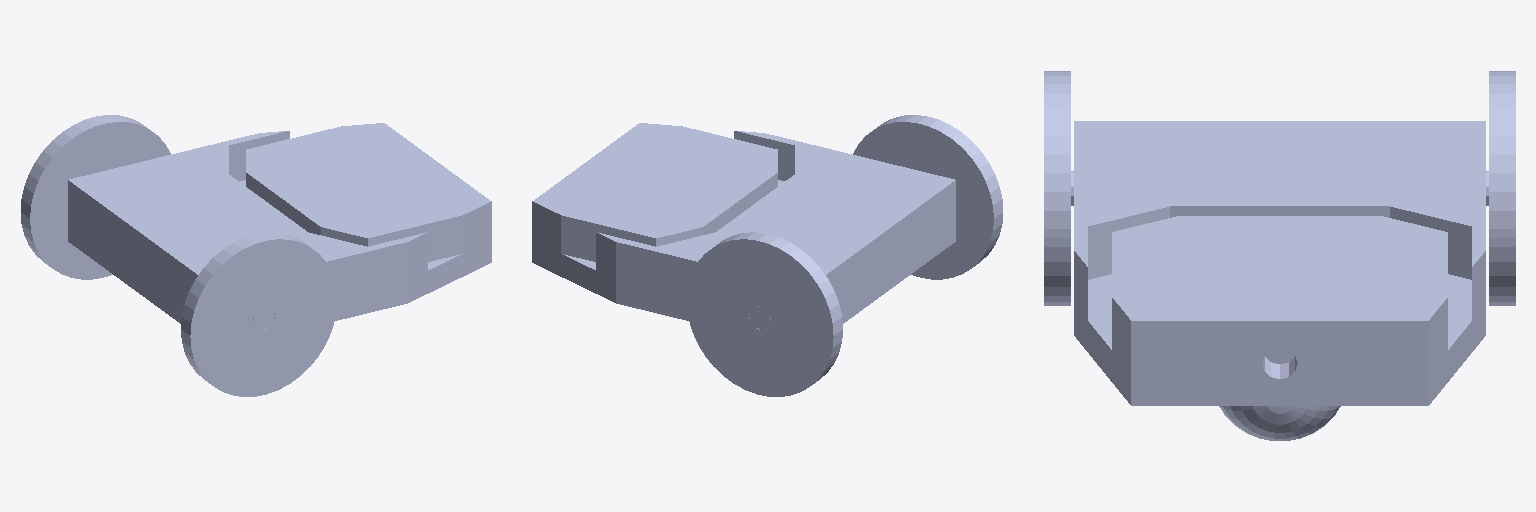
The robot description file, URDF, robot "robot_13":
<?xml version="1.0" encoding="utf-8"?>
<!-- This URDF was automatically created by SolidWorks to URDF Exporter! Originally created by [author] ([email redacted]) 
     Commit Version: 1.6.0-1-g15f4949  Build Version: 1.6.7594.29634
     For more information, please see http://wiki.ros.org/sw_urdf_exporter -->
<robot
  name="robot_13">
  <link
    name="base_link">
    <inertial>
      <origin
        xyz="0.014544 0.036582 1.6161E-17"
        rpy="0 0 0" />
      <mass
        value="5" />
      <inertia
        ixx="0.10203"
        ixy="0.004034"
        ixz="1.129E-17"
        iyy="0.23912"
        iyz="8.2254E-18"
        izz="0.15152" />
    </inertial>
    <visual>
      <origin
        xyz="0 0 0"
        rpy="0 0 0" />
      <geometry>
        <mesh
          filename="package://robot_13/meshes/base_link.STL" />
      </geometry>
      <material
        name="">
        <color
          rgba="0.79216 0.81961 0.93333 1" />
      </material>
    </visual>
    <collision>
      <origin
        xyz="0 0 0"
        rpy="0 0 0" />
      <geometry>
        <mesh
          filename="package://robot_13/meshes/base_link.STL" />
      </geometry>
    </collision>
  </link>
  <link
    name="L_link">
    <inertial>
      <origin
        xyz="0 0 -0.01125"
        rpy="0 0 0" />
      <mass
        value="0.69095" />
      <inertia
        ixx="0.0017954"
        ixy="1.963E-35"
        ixz="1.0164E-20"
        iyy="0.0017954"
        iyz="1.3775E-36"
        izz="0.0035325" />
    </inertial>
    <visual>
      <origin
        xyz="0 0 0"
        rpy="0 0 0" />
      <geometry>
        <mesh
          filename="package://robot_13/meshes/L_link.STL" />
      </geometry>
      <material
        name="">
        <color
          rgba="0.79216 0.81961 0.93333 1" />
      </material>
    </visual>
    <collision>
      <origin
        xyz="0 0 0"
        rpy="0 0 0" />
      <geometry>
        <mesh
          filename="package://robot_13/meshes/L_link.STL" />
      </geometry>
    </collision>
  </link>
  <joint
    name="L_joint"
    type="continuous">
    <origin
      xyz="-0.13201 0.1775 0.04"
      rpy="1.5708 0 0" />
    <parent
      link="base_link" />
    <child
      link="L_link" />
    <axis
      xyz="0 0 1" />
  </joint>
  <link
    name="R_link">
    <inertial>
      <origin
        xyz="2.7756E-17 0 0.01125"
        rpy="0 0 0" />
      <mass
        value="0.69095" />
      <inertia
        ixx="0.0017954"
        ixy="1.963E-35"
        ixz="1.0164E-20"
        iyy="0.0017954"
        iyz="1.3775E-36"
        izz="0.0035325" />
    </inertial>
    <visual>
      <origin
        xyz="0 0 0"
        rpy="0 0 0" />
      <geometry>
        <mesh
          filename="package://robot_13/meshes/R_link.STL" />
      </geometry>
      <material
        name="">
        <color
          rgba="0.79216 0.81961 0.93333 1" />
      </material>
    </visual>
    <collision>
      <origin
        xyz="0 0 0"
        rpy="0 0 0" />
      <geometry>
        <mesh
          filename="package://robot_13/meshes/R_link.STL" />
      </geometry>
    </collision>
  </link>
  <joint
    name="R_joint"
    type="continuous">
    <origin
      xyz="-0.13201 -0.1775 0.04"
      rpy="1.5708 0 0" />
    <parent
      link="base_link" />
    <child
      link="R_link" />
    <axis
      xyz="0 0 1" />
  </joint>
</robot>

--- What the picture shows (computed from the rendered views, not written in the file) ---
3 views of the same robot in one strip: view 1: azimuth 30°, elevation 25°; view 2: azimuth 150°, elevation 25°; view 3: azimuth 270°, elevation 25° (orthographic).
Robot: robot_13 — 3 links, 2 joints (2 continuous); root link base_link; default pose: all joints at 0.
Links seen in each view (by area): view 1: base_link, R_link, L_link; view 2: base_link, L_link, R_link; view 3: base_link, L_link, R_link.
Boxes of the visible links, left/top/right/bottom form: base_link: left=68, top=123, right=491, bottom=329; R_link: left=181, top=232, right=337, bottom=396; L_link: left=21, top=115, right=170, bottom=279; base_link: left=532, top=123, right=955, bottom=329; L_link: left=686, top=232, right=842, bottom=396; R_link: left=853, top=115, right=1002, bottom=279; base_link: left=1071, top=121, right=1488, bottom=440; L_link: left=1489, top=71, right=1515, bottom=305; R_link: left=1044, top=71, right=1070, bottom=305.
Size in the robot's own frame: 0.4519 by 0.4 by 0.1998 metres.
3 mesh visuals loaded from 3 distinct referenced files (3 binary STL).